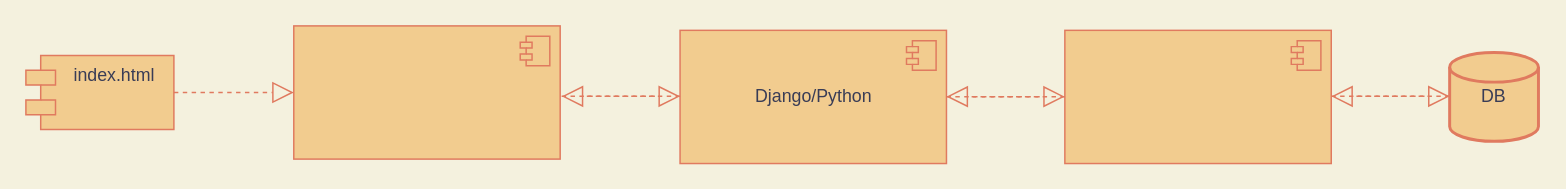
This 1566x189 diagram has some shape labels left out. The centre of each missing label's shape, as x and y in pixels:
DBMS Postgre: the point at 1197,96
Django Server: the point at 426,91
